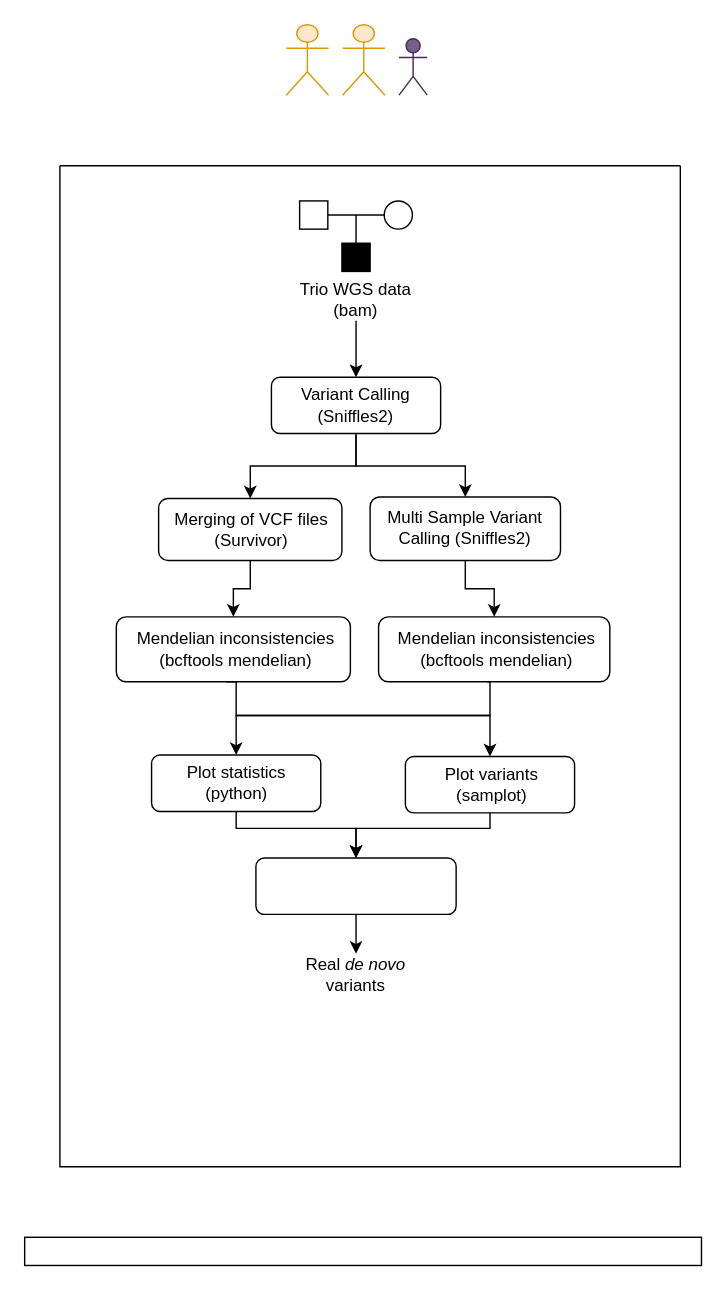
Image size: 726x1290. Some labels were removed from this diagram. Here are the shapes that lost their labels. From the top down, the centre of each, then its label:
At point 355,885: "Local assembly of SV regions".
At point 362,1250: "Integrated pipeline for Mendelian inconsistency analysis".
